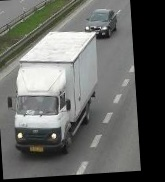car: (84, 7, 120, 41)
